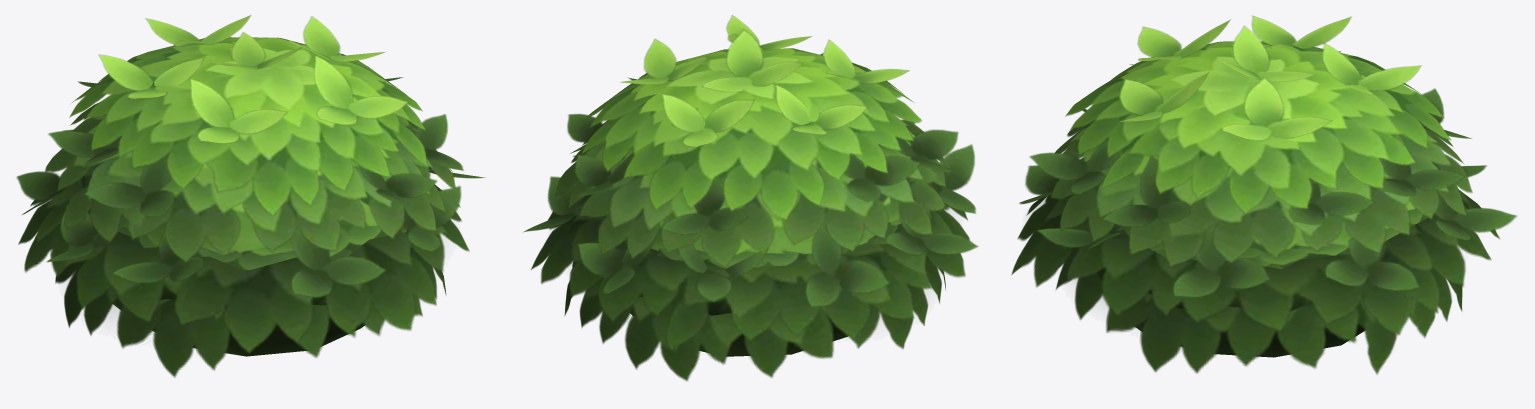
File: bush.glb
3 views of the same model, side by side, from view 1: azimuth 30°, elevation 25°; view 2: azimuth 150°, elevation 25°; view 3: azimuth 270°, elevation 25° (orthographic). The views are drawn at different scales.
Bounding box in the file's own units: 1.72 × 1.1 × 1.81.
Materials: 1 (1 with a texture image).
